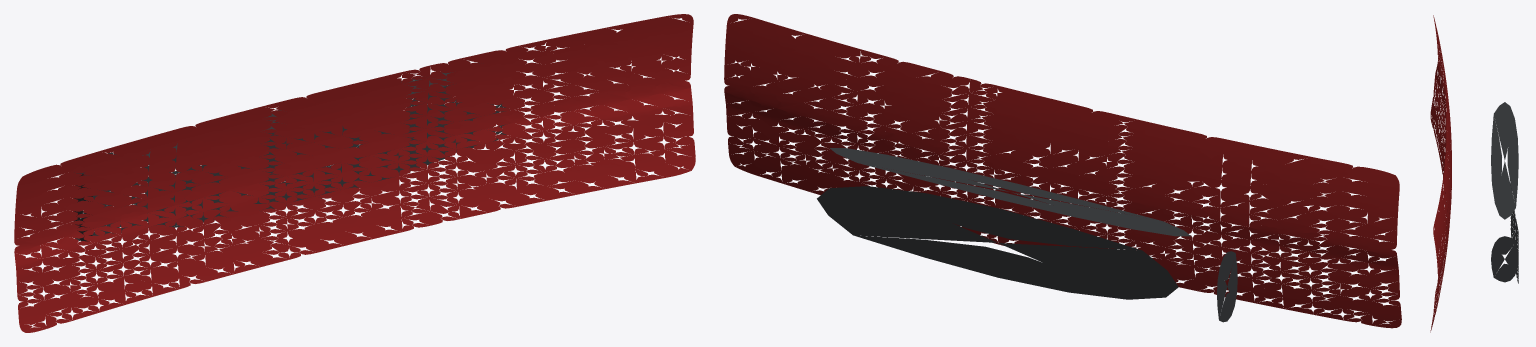
The model's file is front_bumper.glb.
3 renders of one model, left to right at view 1: azimuth 30°, elevation 25°; view 2: azimuth 150°, elevation 25°; view 3: azimuth 270°, elevation 25°, orthographic. The views are drawn at different scales.
Parts seen in each view (by area): view 1: Front_Bumper_Main_Fascia, Front_Bumper_Central_Air_Intake.001, Front_Bumper_Central_Air_Intake; view 2: Front_Bumper_Main_Fascia, Front_Bumper_Central_Air_Intake.001; view 3: Front_Bumper_Central_Air_Intake.001, Front_Bumper_Main_Fascia, Front_Bumper_Central_Air_Intake.
Boxes of the visible parts, x1,y1,x2,y2 form: Front_Bumper_Main_Fascia: (14, 14, 695, 332); Front_Bumper_Central_Air_Intake.001: (74, 72, 476, 241); Front_Bumper_Central_Air_Intake: (74, 62, 506, 240); Front_Bumper_Main_Fascia: (724, 14, 1401, 328); Front_Bumper_Central_Air_Intake.001: (817, 148, 1237, 322); Front_Bumper_Central_Air_Intake.001: (1491, 102, 1518, 282); Front_Bumper_Main_Fascia: (1430, 15, 1451, 332); Front_Bumper_Central_Air_Intake: (1510, 183, 1518, 283).
Size of the model in its own units: 1.86 by 0.4201 by 0.3274.
